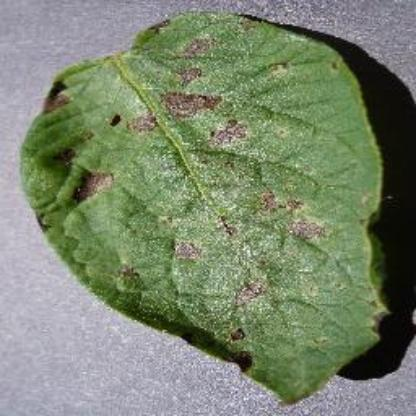Early-Blight: (19, 12, 395, 408)
